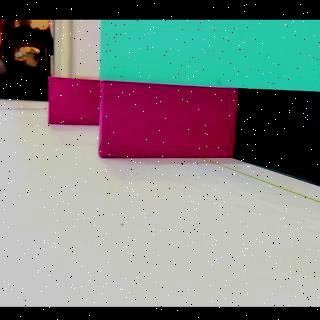xparking: (101, 83, 238, 159), (50, 81, 100, 125)
